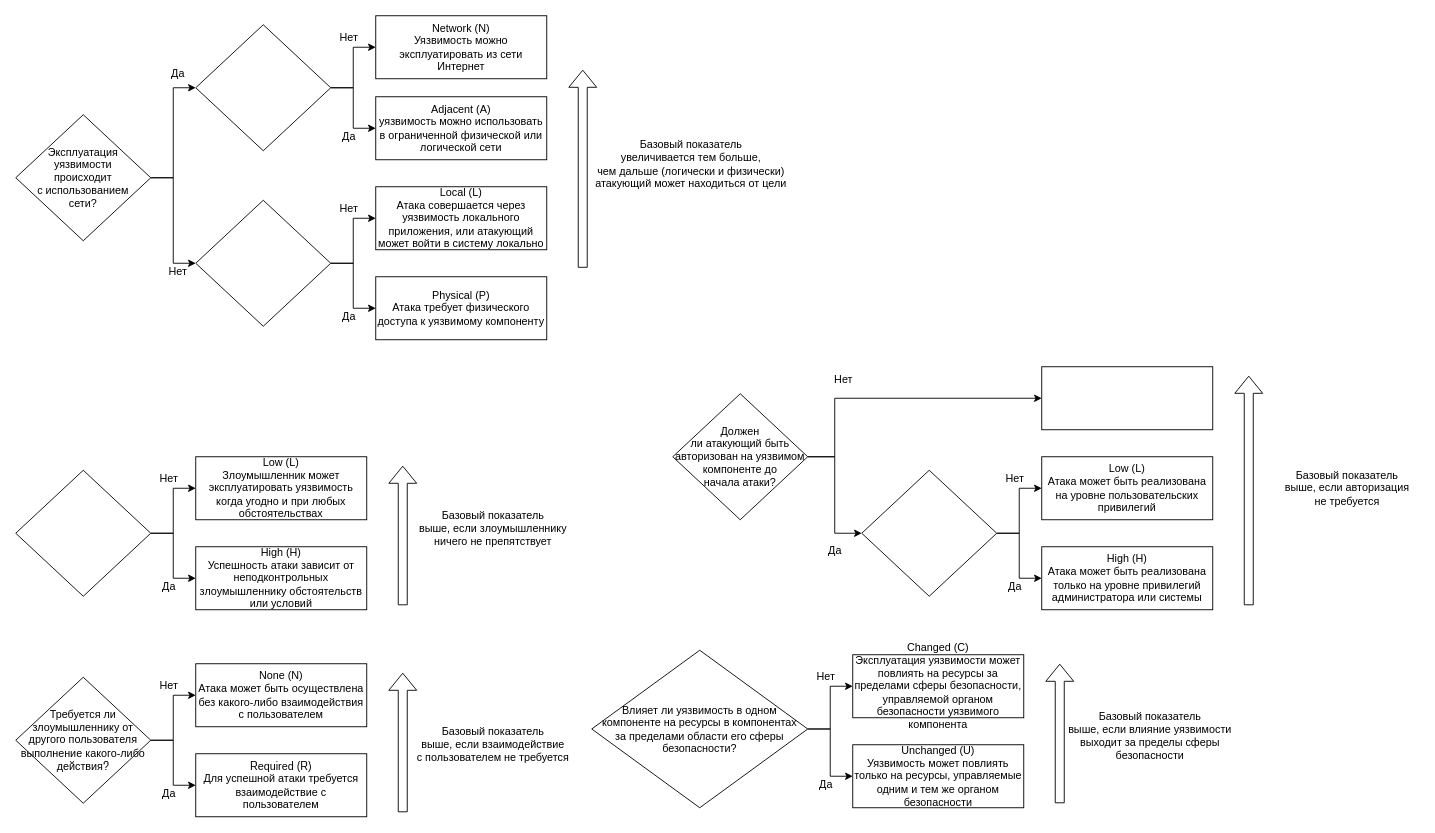
Image size: 1435x833. Some labels were removed from this diagram. The shapes that lost their labels are listed below. From the top down, each one's centre as x and y in pixels, then its label:
At point (263, 87): "Уязвимость может эксплуатироваться только из смежной сети?".
At point (263, 262): "Требуется ли злоумышленнику физический доступ к объекту?".
At point (1127, 398): "None (N) Атака может быть реализована без авторизации".
At point (83, 532): "Может ли злоумышленник эксплуатировать уязвимость как угодно?".
At point (929, 532): "Требуются ли права администратора?".
